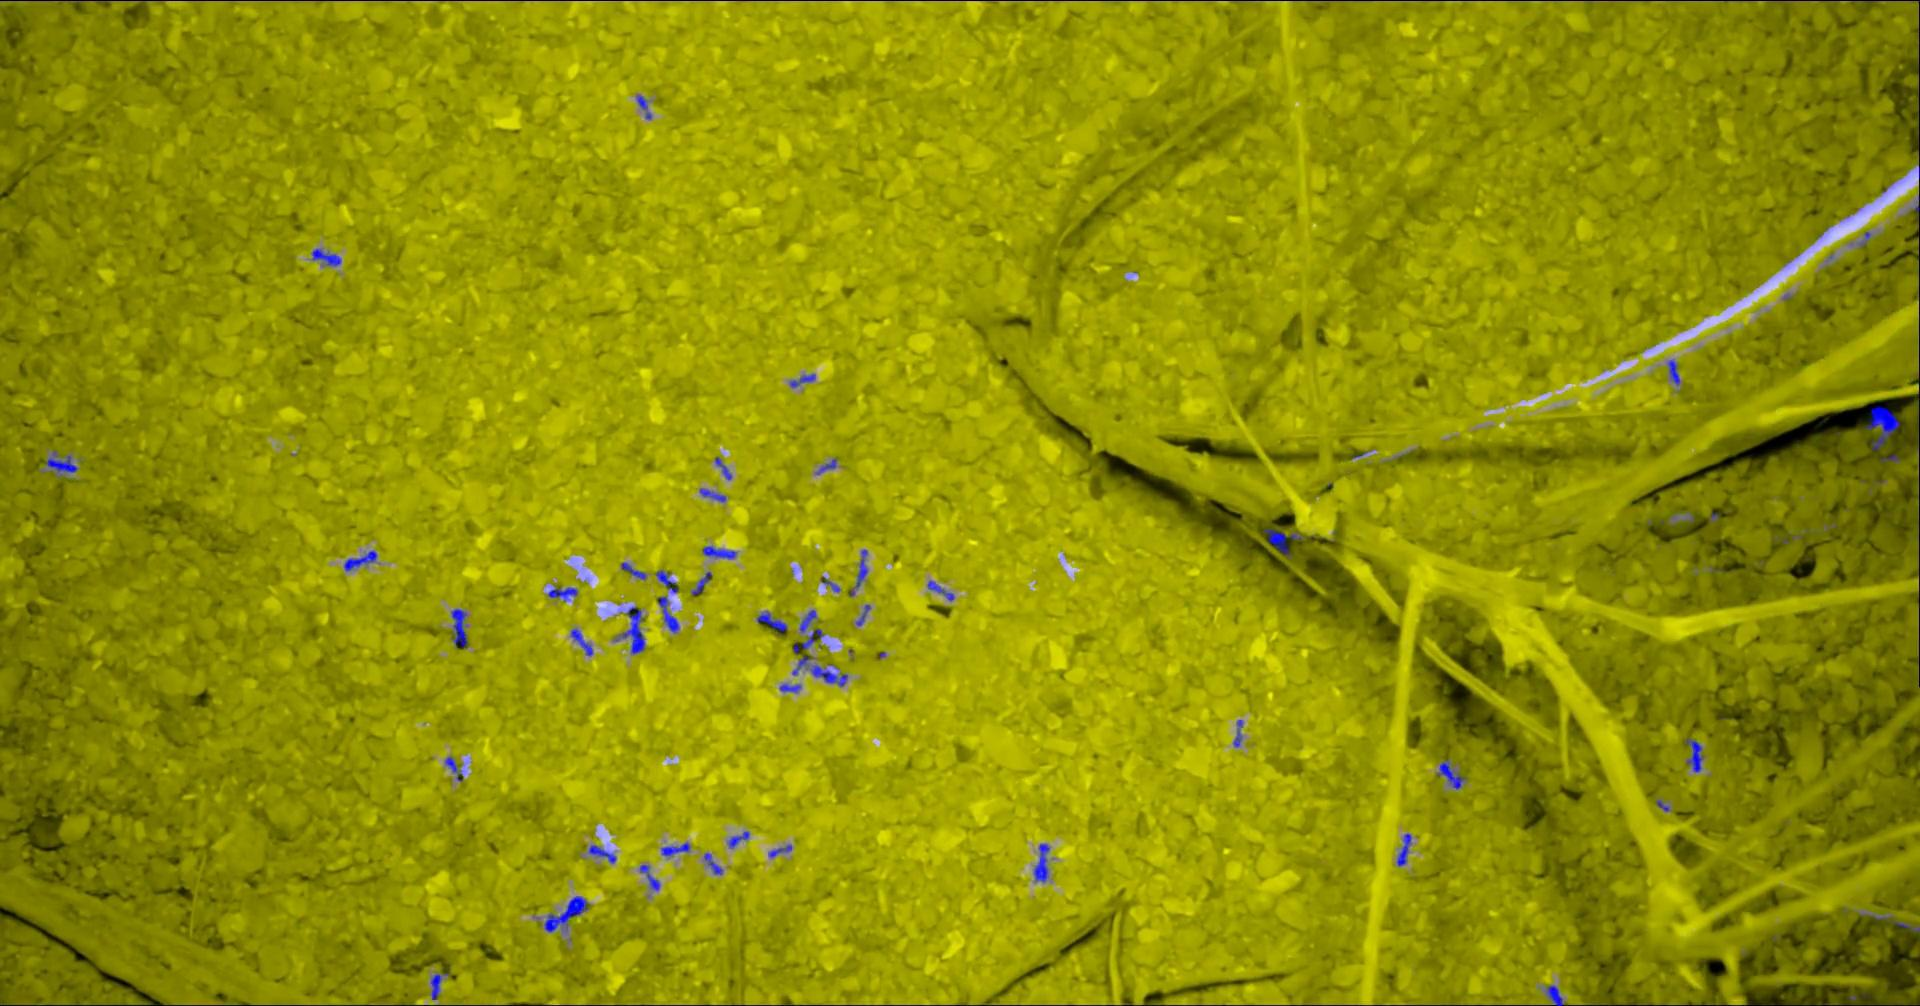ant: (543, 895, 588, 931), (1865, 405, 1900, 451), (1263, 528, 1302, 558), (621, 606, 644, 653), (1436, 760, 1464, 789), (657, 596, 678, 633), (792, 627, 823, 653), (810, 666, 847, 686), (343, 550, 376, 572), (450, 608, 467, 647), (44, 452, 77, 473), (756, 611, 786, 633), (1685, 737, 1703, 772), (1032, 843, 1049, 882), (570, 627, 592, 655), (311, 248, 340, 265), (639, 864, 659, 889), (927, 580, 954, 600), (655, 570, 678, 592), (855, 549, 867, 587), (444, 756, 463, 781), (1396, 833, 1411, 865), (588, 845, 615, 862), (691, 572, 711, 594), (621, 561, 645, 579), (799, 608, 817, 633), (702, 545, 735, 558), (703, 852, 723, 874), (1545, 984, 1564, 1005), (714, 457, 731, 479), (789, 373, 815, 387), (547, 587, 577, 600), (636, 95, 651, 119), (728, 831, 749, 847), (662, 842, 690, 855), (698, 488, 725, 500), (792, 655, 810, 674), (768, 843, 791, 857), (1891, 920, 1919, 931), (1667, 359, 1679, 385), (817, 459, 836, 474), (1233, 719, 1242, 747), (430, 974, 441, 998), (778, 683, 800, 692)
